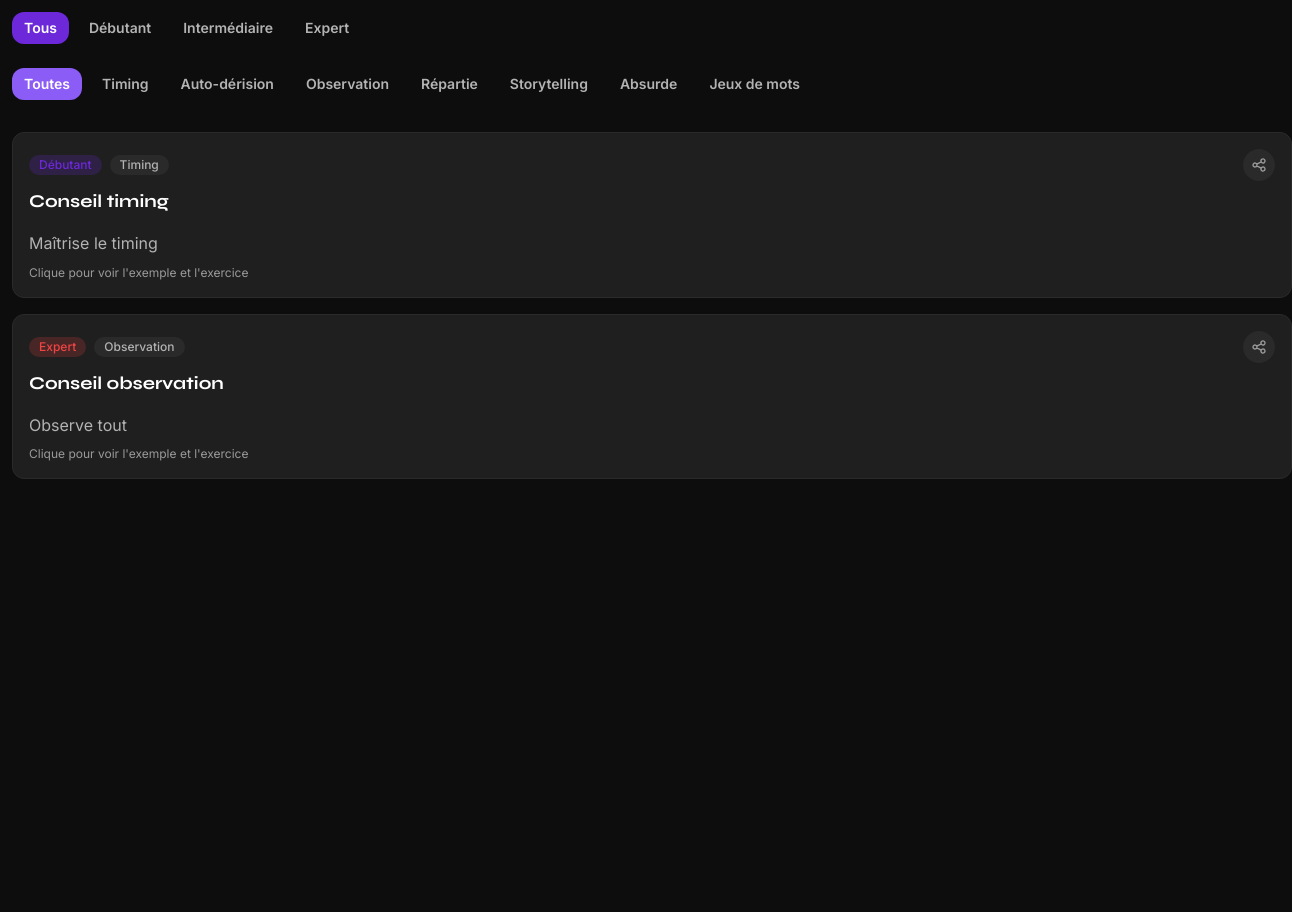
Test: ConseilsList › expands tip to show example and exercise on click
The image size is (1292, 912).
What coordinates should you click on to do the following:
click the heading "Conseil timing"
I would click on:
 (99, 201)
Its box is [29,190,169,212].
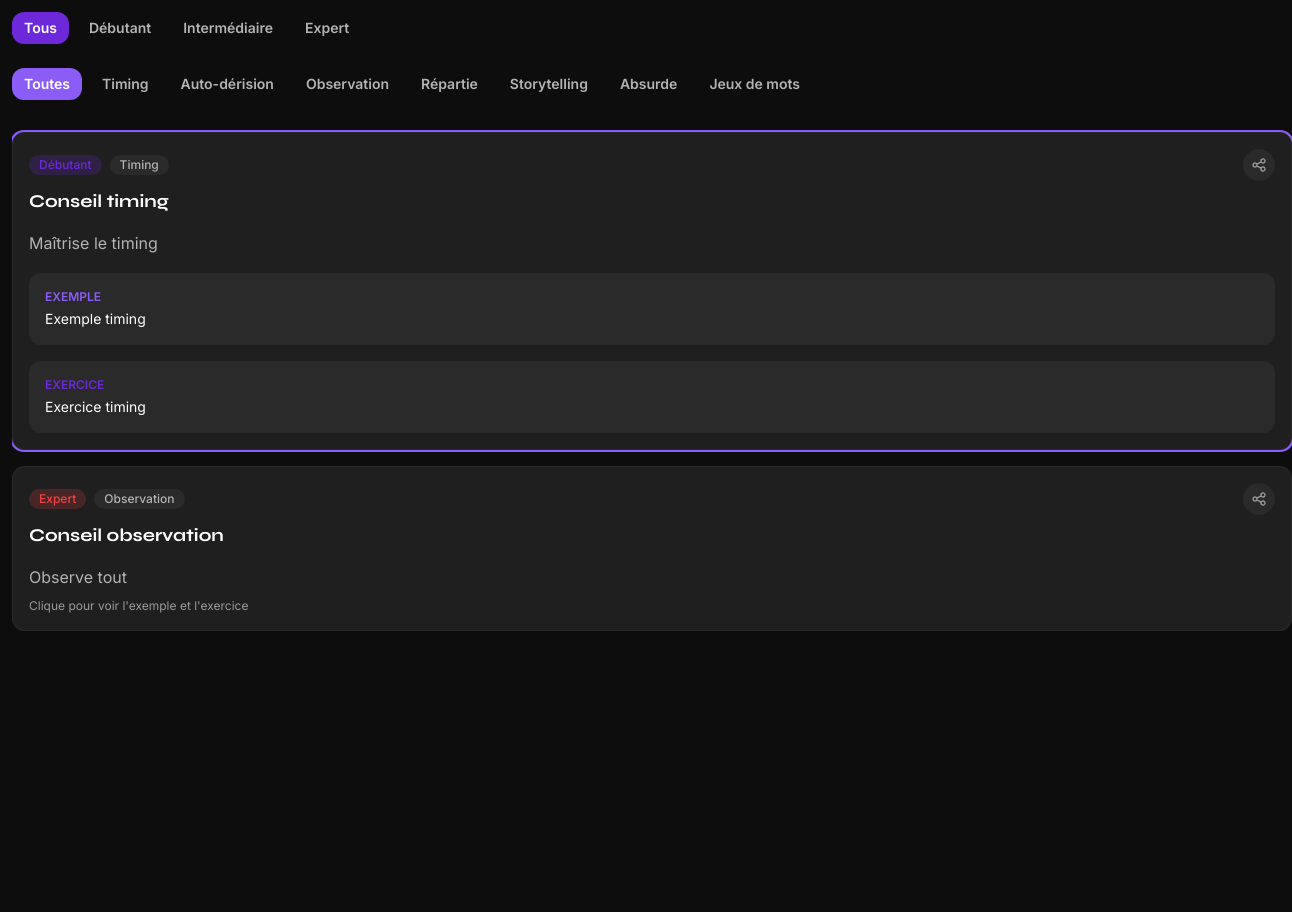
Expected: the text "Exemple" is shown, [45,289,101,304]
Expected: the text "Exemple timing" is shown, [45,310,146,327]
Expected: the text "Exercice" is shown, [45,377,104,392]
